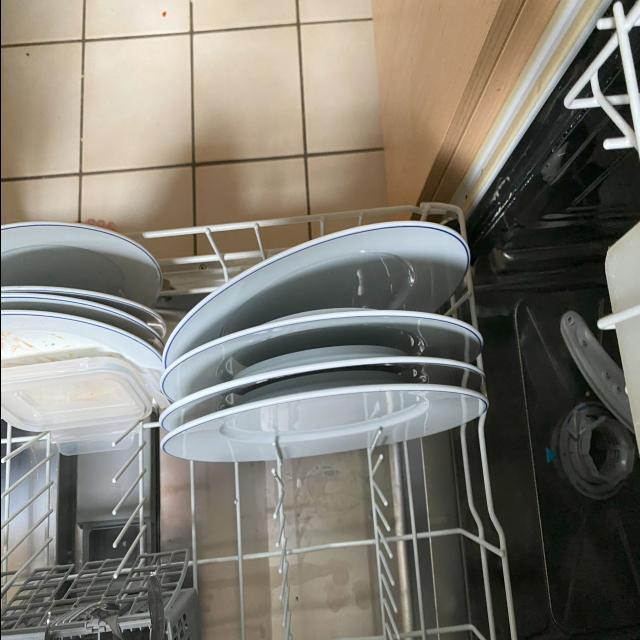empty_slot: (197, 461, 489, 628), (0, 447, 165, 564)
